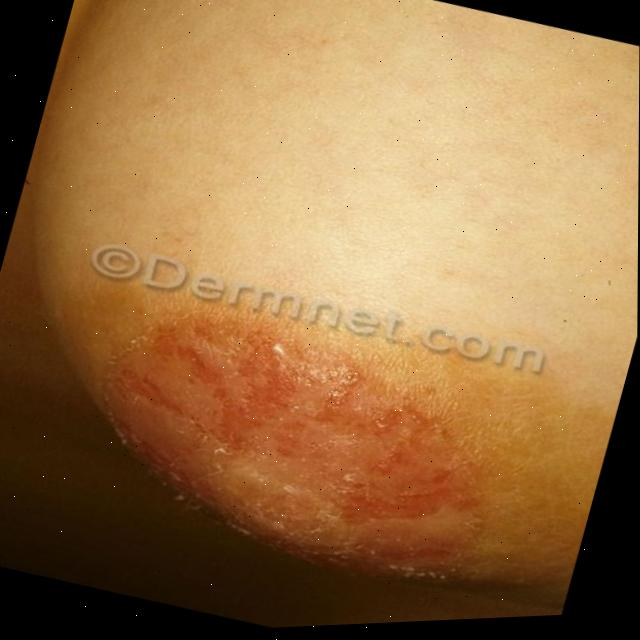Eczema: (132, 295, 504, 534)
